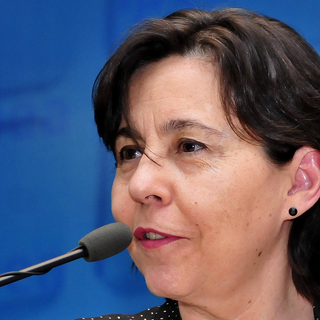eye: (166, 133, 211, 162), (108, 142, 149, 166)
